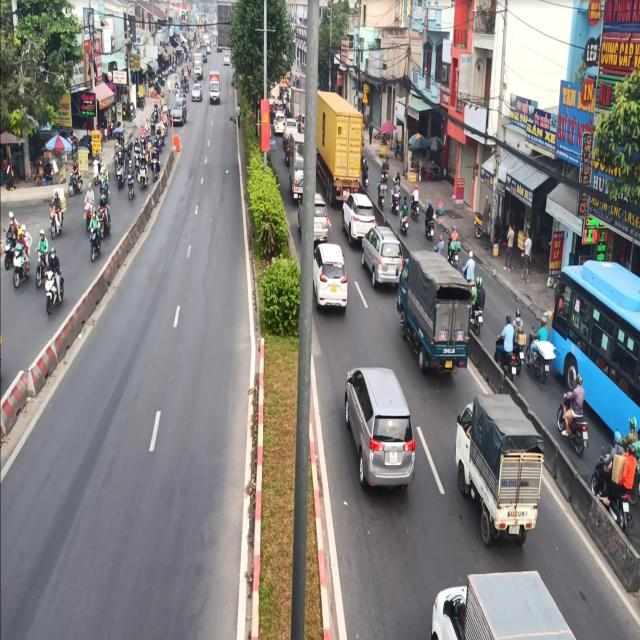car: (343, 358, 422, 515)
truck: (450, 383, 549, 544), (396, 238, 483, 381)
